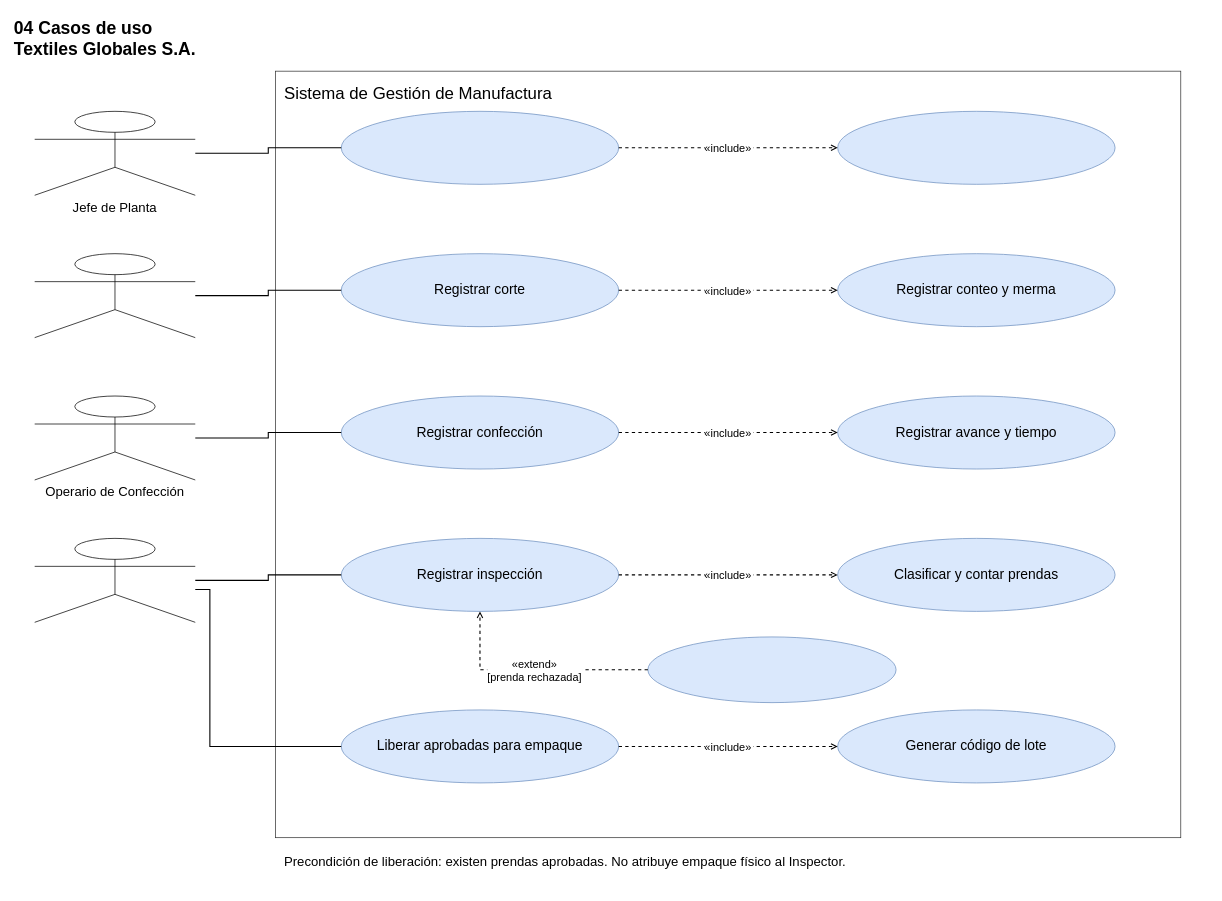
Some shapes in this 1222 by 901 pixel diagram are drawn without their labels. Each missing label, with the box of its shape:
Crear OT y habilitar tela: (341, 111, 619, 184)
Inspector de Calidad: (34, 538, 195, 622)
Operario de Corte: (34, 253, 195, 338)
Registrar causa de rechazo: (647, 636, 896, 703)
Verificar metraje: (837, 111, 1115, 184)
